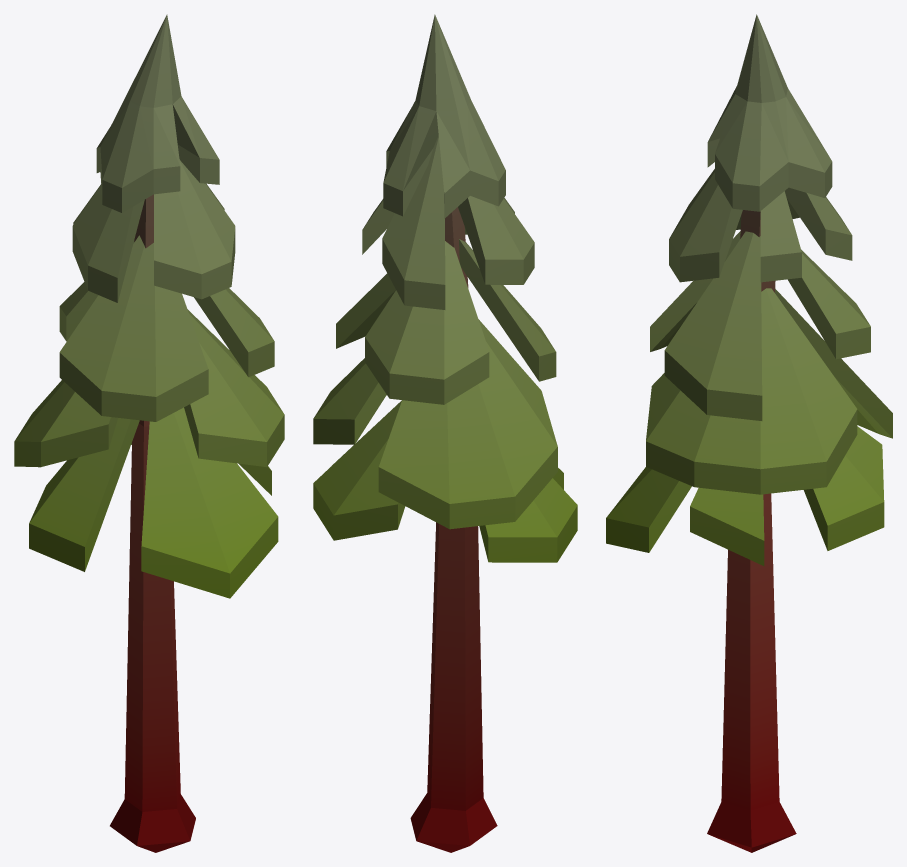
File: synty-tree-polypine-sparse-03.gltf
The picture shows the model from 3 angles, left to right: view 1: azimuth 30°, elevation 25°; view 2: azimuth 150°, elevation 25°; view 3: azimuth 270°, elevation 25°; orthographic projection.
Parts seen in each view (by area): view 1: SM_Tree_PolyPine_Sparse_03; view 2: SM_Tree_PolyPine_Sparse_03; view 3: SM_Tree_PolyPine_Sparse_03.
Boxes of the visible parts, x1,y1,x2,y2 form: SM_Tree_PolyPine_Sparse_03: [14, 14, 284, 852]; SM_Tree_PolyPine_Sparse_03: [313, 14, 577, 852]; SM_Tree_PolyPine_Sparse_03: [606, 14, 892, 852].
Size of the model in its own units: 1.19 by 4.09 by 1.26.
1 material, 1 textured.
